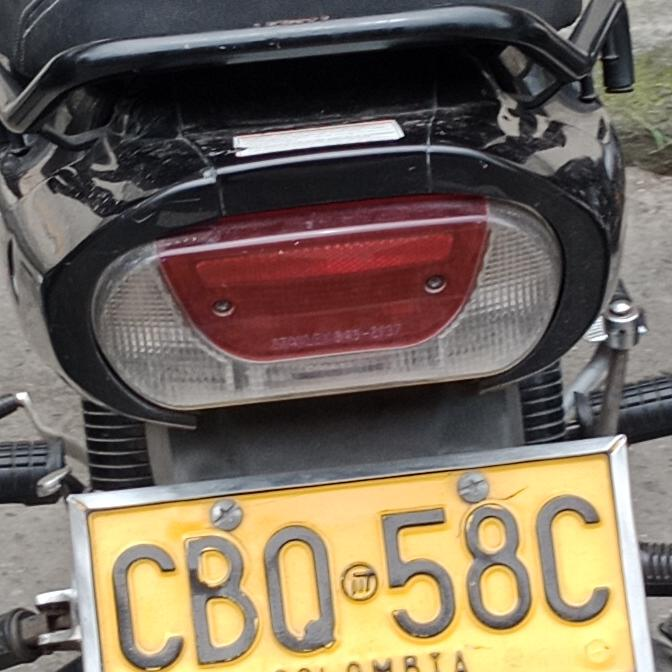plates: (82, 438, 659, 672)
